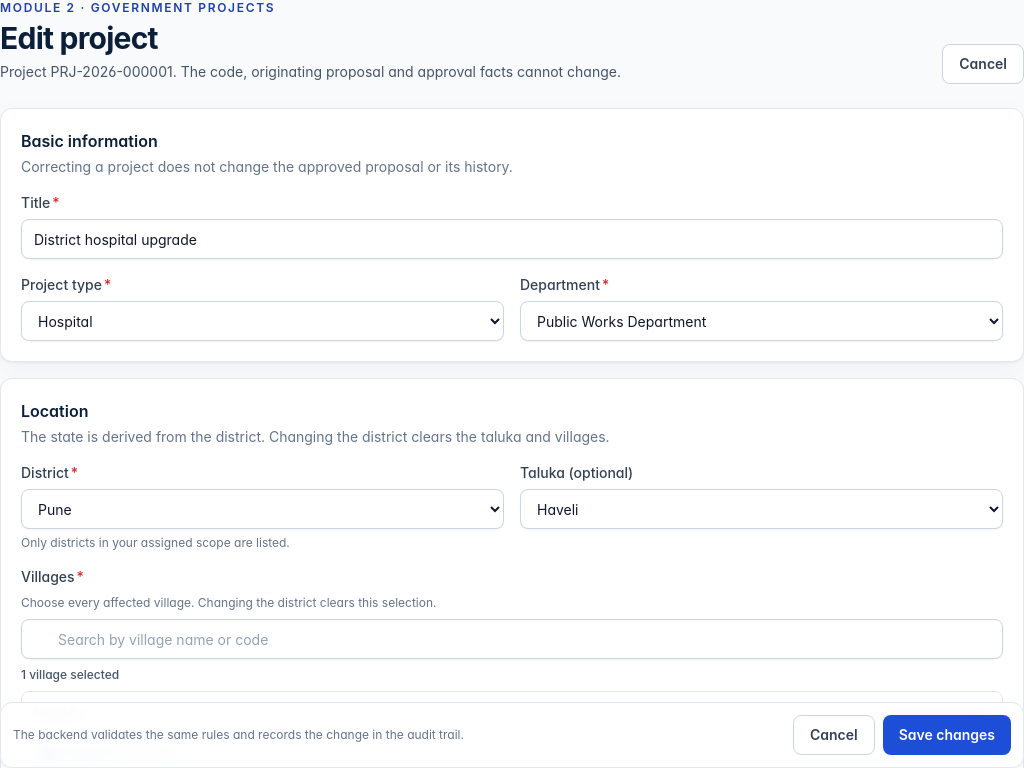
Test: ProjectEditPage › saves corrected project details through PUT /projects/{id}
Expected: the heading "Edit project" is shown, [0,20,158,56]
Replace the text in the field labelled "Title*" with "District hospital phase two" at (512, 239), box [21,219,1003,259]
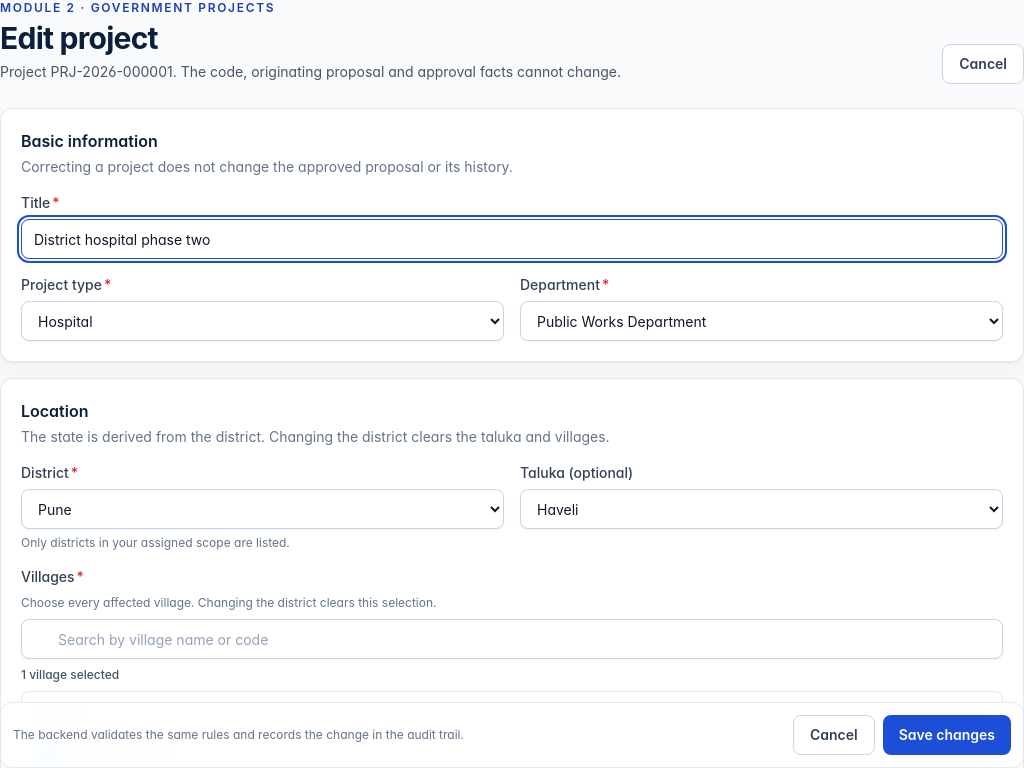
Click the button "Save changes".
click(947, 735)  # box [883,715,1011,755]
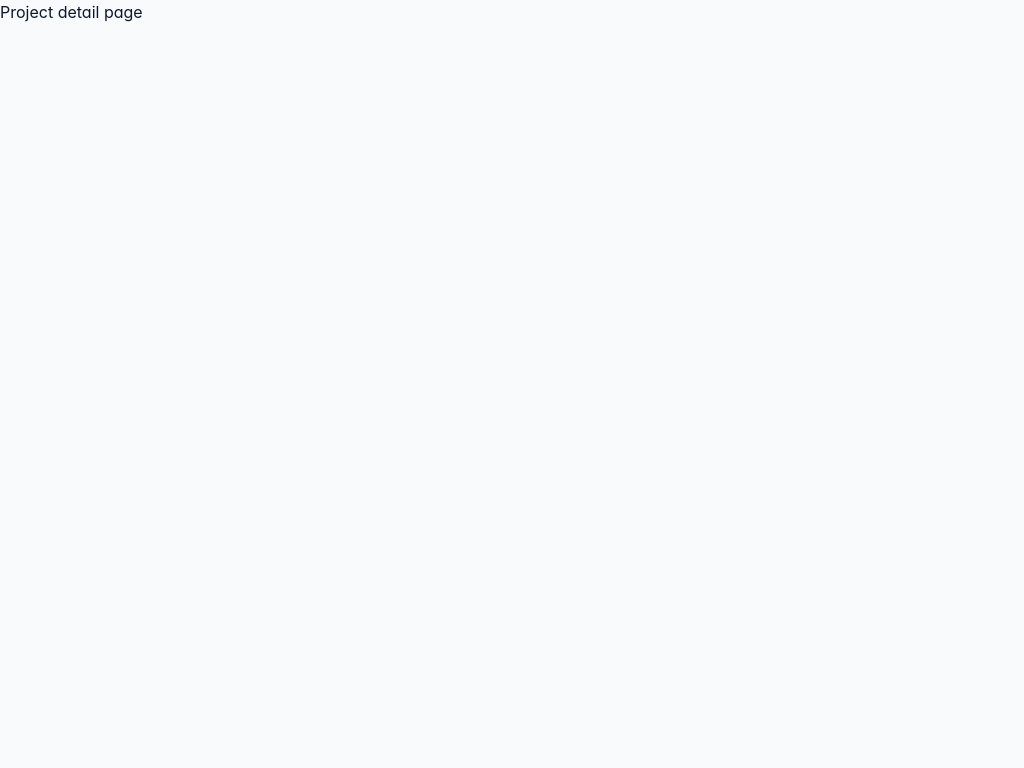
Expected: the text "Project detail page" is shown, [0,2,143,22]
